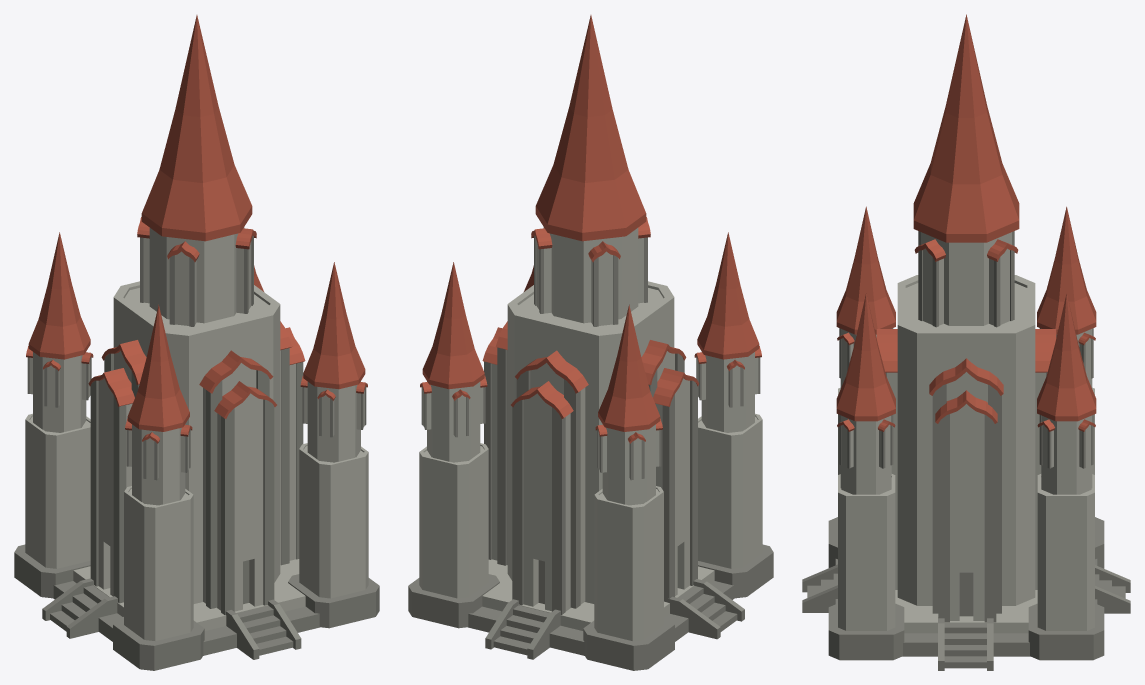
Rendered from Temple.gltf.
3 views of the same model, side by side, from view 1: azimuth 30°, elevation 25°; view 2: azimuth 150°, elevation 25°; view 3: azimuth 270°, elevation 25° (orthographic).
Visible parts, largest first — view 1: Temple_SecondAge_Level3; view 2: Temple_SecondAge_Level3; view 3: Temple_SecondAge_Level3.
Part boxes in pixels (box(x1,y1,x2,y2)): Temple_SecondAge_Level3: box(14, 15, 379, 670); Temple_SecondAge_Level3: box(408, 15, 773, 670); Temple_SecondAge_Level3: box(802, 14, 1130, 670).
Size of the model in its own units: 2.19 by 4.33 by 2.19.
